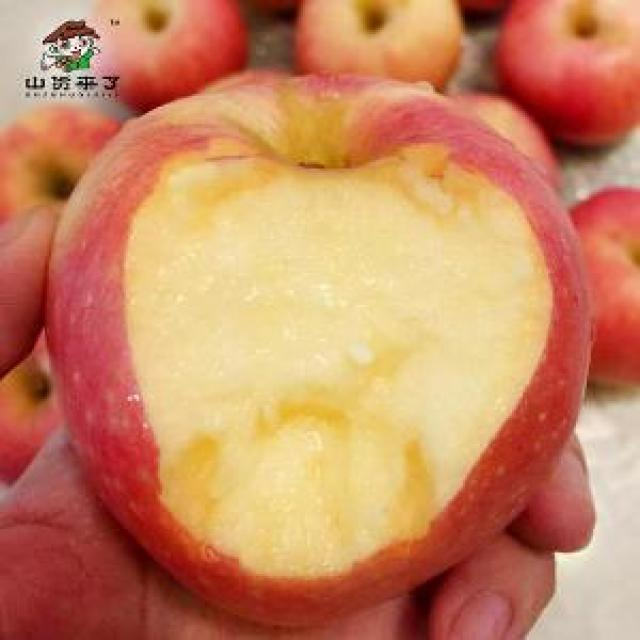Rotten: (55, 105, 587, 640)
